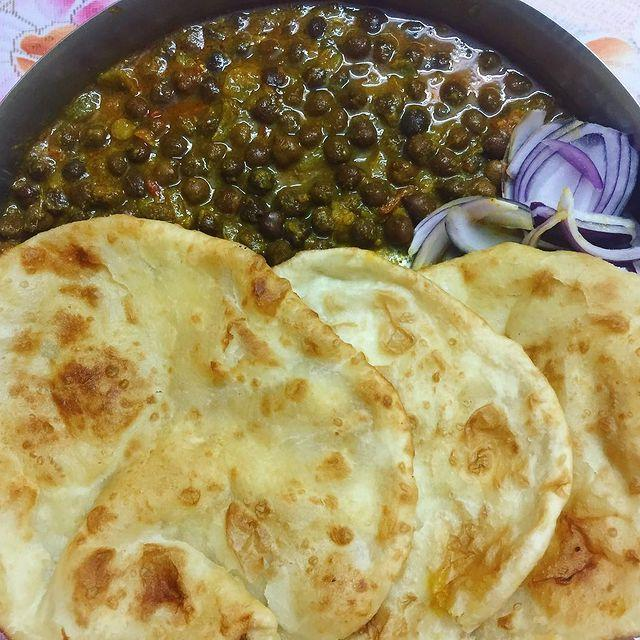Chole: (132, 7, 426, 215)
